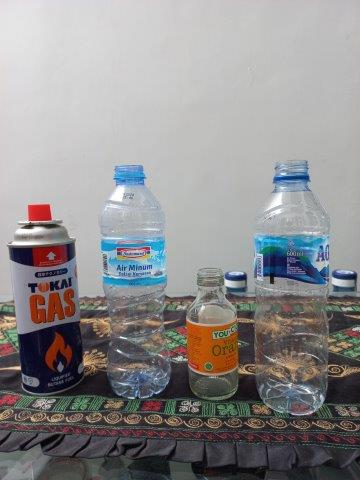botolkaca: (187, 269, 239, 400)
botolplastik: (257, 160, 331, 413), (100, 166, 172, 400)
kaleng: (7, 205, 85, 396)
